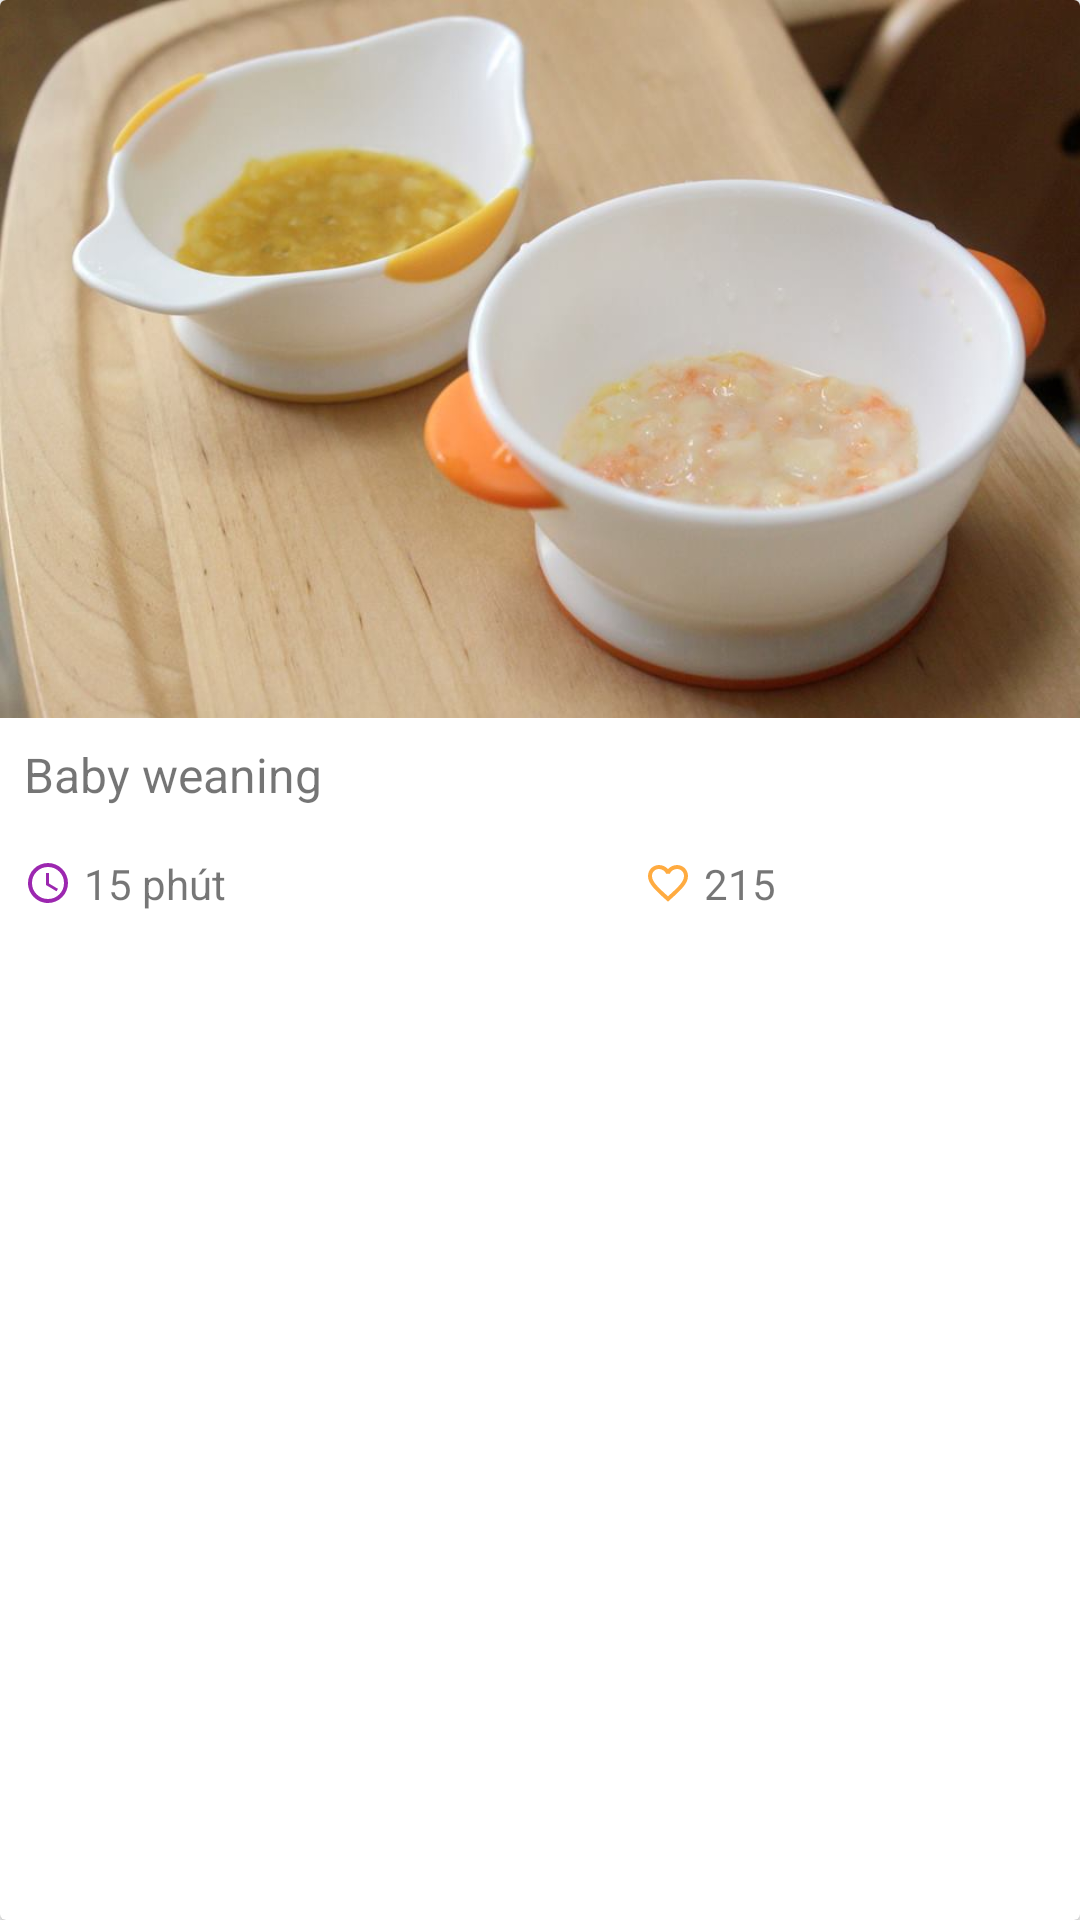

Locate icon controls on the screen. Image size 1080x1920, boxes as detection(x1, y1, x2, y2).
clock: detection(28, 863, 68, 903)
favorite: detection(648, 865, 688, 902)
